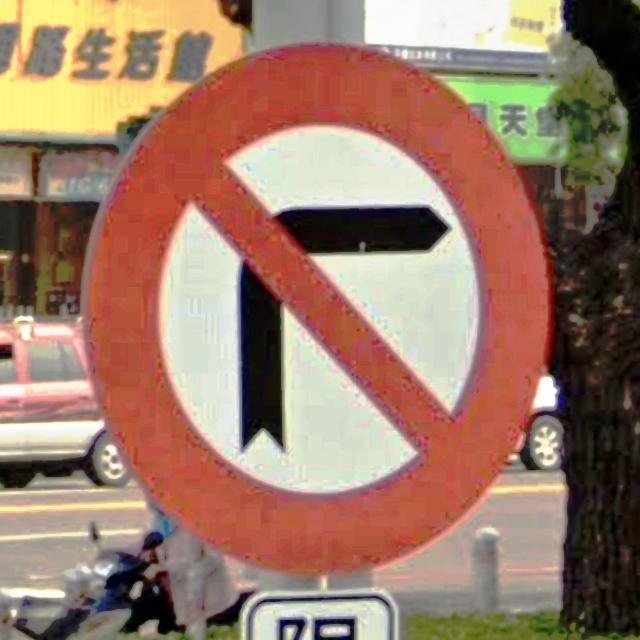noturnright: (82, 43, 554, 578)
